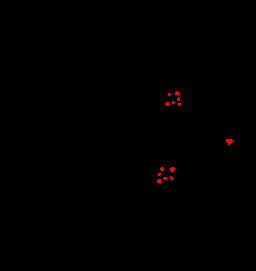Target: (226, 139, 233, 145), (170, 167, 175, 172), (175, 91, 179, 96), (165, 102, 170, 106), (160, 167, 164, 171), (157, 179, 161, 183), (177, 97, 180, 101), (170, 176, 173, 180), (163, 177, 167, 180), (168, 93, 171, 96), (172, 101, 175, 104), (178, 103, 181, 106), (158, 173, 161, 176)
